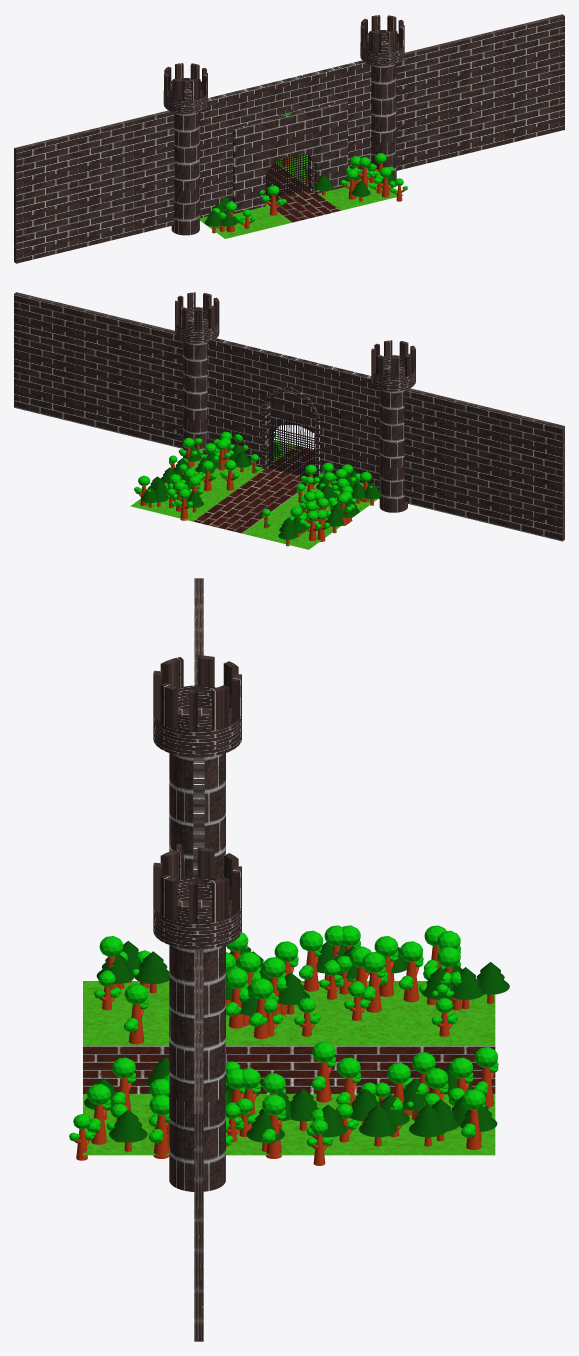
The model's file is castle.obj.
The picture shows the model from 3 angles, top to bottom: view 1: azimuth 30°, elevation 25°; view 2: azimuth 150°, elevation 25°; view 3: azimuth 270°, elevation 25°; orthographic projection. The views are drawn at different scales.
Visible parts, largest first — view 1: 立方体.002, 立方体, 円柱.001, 立方体.001, 平面.004, 円柱, 立方体.047, 円柱.007, 円柱.005; view 2: 立方体.002, 立方体, 円柱.001, 平面.004, 円柱, 円柱.007, 立方体.047, 立方体.001, 円柱.005, 立方体.003; view 3: 円柱.001, 平面.004, 円柱, 円柱.007, 円柱.005, 立方体.002, 立方体.
Boxes of the visible parts, x1,y1,x2,y2 form: 立方体.002: (14, 14, 564, 263); 立方体: (200, 60, 371, 217); 円柱.001: (163, 15, 404, 235); 立方体.001: (233, 100, 347, 213); 平面.004: (200, 154, 403, 238); 円柱: (219, 113, 397, 232); 立方体.047: (266, 154, 309, 198); 円柱.007: (204, 113, 396, 233); 円柱.005: (206, 164, 407, 231); 立方体.002: (14, 292, 564, 541); 立方体: (207, 338, 379, 498); 円柱.001: (175, 292, 415, 512); 平面.004: (130, 441, 378, 549); 円柱: (134, 431, 372, 541); 円柱.007: (141, 434, 381, 546); 立方体.047: (269, 417, 315, 477); 立方体.001: (270, 391, 315, 464); 円柱.005: (167, 438, 364, 533); 立方体.003: (262, 387, 319, 480); 円柱.001: (153, 655, 241, 1191); 平面.004: (83, 981, 495, 1155); 円柱: (86, 925, 498, 1158); 円柱.007: (84, 940, 509, 1151); 円柱.005: (69, 950, 464, 1165); 立方体.002: (194, 578, 203, 1341); 立方体: (193, 757, 204, 877).
Size of the model in its own units: 227 by 62.19 by 79.1.
Materials: 33 (8 with a texture image).
